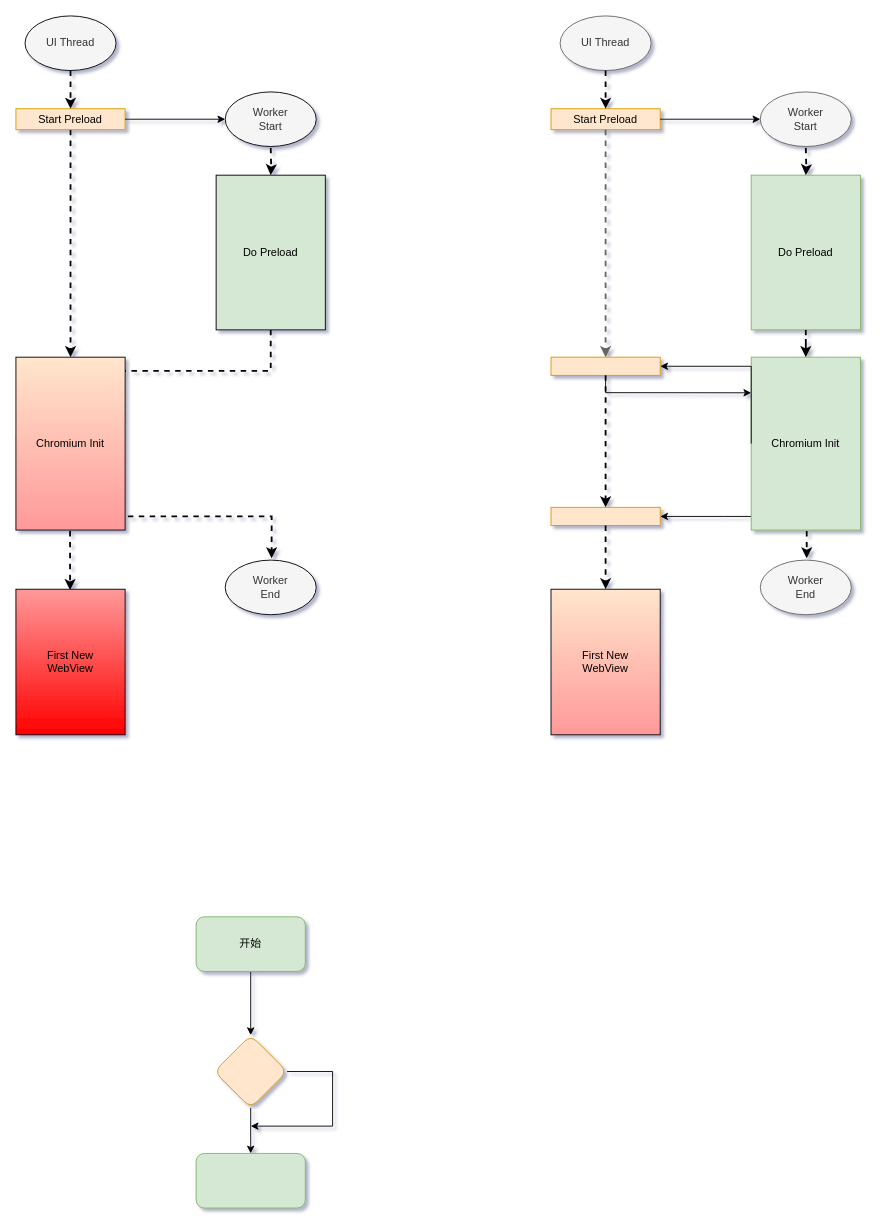
Some shapes in this 882 by 1229 pixel diagram are drawn without their labels. Here are the shapes that lost their labels. From the top down, the centre of each, then its label:
At pixel 605 365: "Get Tls".
At pixel 605 516: "Set Tls".
At pixel 250 1071: "条件".
